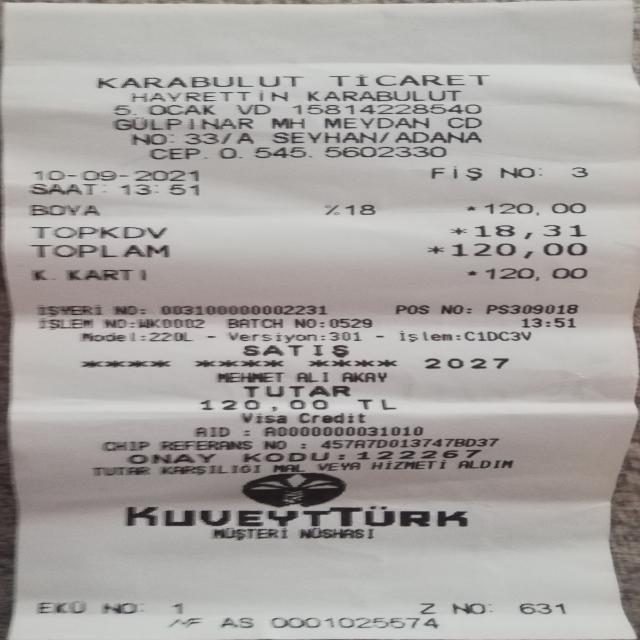text: (124, 505, 467, 527), (159, 302, 327, 317), (451, 241, 585, 259), (32, 168, 197, 181), (96, 76, 303, 86), (30, 243, 168, 258), (270, 616, 438, 628), (32, 225, 166, 240), (473, 223, 585, 240), (291, 103, 481, 113), (131, 90, 286, 102), (328, 74, 487, 85), (265, 425, 423, 436), (323, 144, 445, 158), (306, 90, 460, 101), (317, 438, 498, 447), (111, 118, 253, 129), (199, 398, 327, 410), (270, 130, 370, 144), (243, 344, 348, 357), (485, 302, 577, 316), (242, 384, 349, 396), (488, 202, 585, 215), (484, 268, 588, 280), (424, 356, 508, 370), (120, 182, 198, 197), (324, 117, 428, 128), (158, 463, 262, 474), (356, 449, 481, 458), (396, 130, 480, 143), (227, 331, 316, 343), (61, 269, 150, 281), (210, 527, 288, 540), (29, 203, 99, 217), (31, 182, 100, 196), (158, 439, 251, 449), (252, 144, 310, 160), (371, 459, 453, 470), (126, 453, 216, 463), (298, 527, 372, 539), (242, 451, 328, 461), (429, 166, 481, 182), (215, 371, 282, 383), (297, 411, 363, 423), (146, 103, 214, 114), (466, 331, 533, 342), (35, 304, 102, 315), (35, 600, 87, 614), (82, 331, 142, 343), (91, 464, 151, 476), (148, 146, 197, 160), (518, 600, 564, 614), (458, 457, 511, 469), (137, 319, 205, 328), (34, 318, 95, 328), (225, 318, 284, 328), (502, 165, 536, 182), (240, 411, 286, 423), (520, 317, 575, 327), (399, 331, 448, 342), (341, 371, 385, 383), (318, 460, 362, 472), (356, 398, 396, 410), (101, 440, 149, 450), (130, 131, 164, 145), (394, 302, 428, 316), (328, 317, 371, 328), (148, 332, 192, 342), (187, 131, 218, 145), (446, 116, 480, 128), (452, 600, 481, 614), (270, 117, 303, 129), (295, 371, 328, 383), (102, 601, 132, 614), (220, 616, 252, 628), (236, 103, 270, 114), (344, 203, 374, 215), (274, 461, 304, 473), (218, 145, 241, 160), (193, 426, 224, 437), (112, 303, 136, 317), (332, 330, 360, 342), (440, 302, 462, 316), (168, 618, 202, 627), (570, 165, 588, 181), (102, 317, 124, 329), (450, 223, 465, 240), (113, 104, 136, 115), (262, 438, 285, 449), (428, 241, 442, 259), (294, 317, 314, 328), (420, 600, 435, 614), (324, 203, 337, 215), (168, 131, 178, 145), (104, 182, 114, 196), (197, 145, 206, 160), (244, 130, 252, 144), (380, 130, 388, 144), (34, 268, 43, 280), (205, 331, 214, 343), (172, 602, 181, 614), (224, 131, 232, 144), (374, 331, 383, 342), (453, 331, 462, 342), (138, 303, 145, 317), (464, 302, 471, 316), (141, 331, 149, 343), (244, 426, 252, 438), (462, 206, 480, 211), (465, 270, 480, 276), (320, 331, 328, 342), (336, 450, 344, 460), (317, 317, 324, 328)
